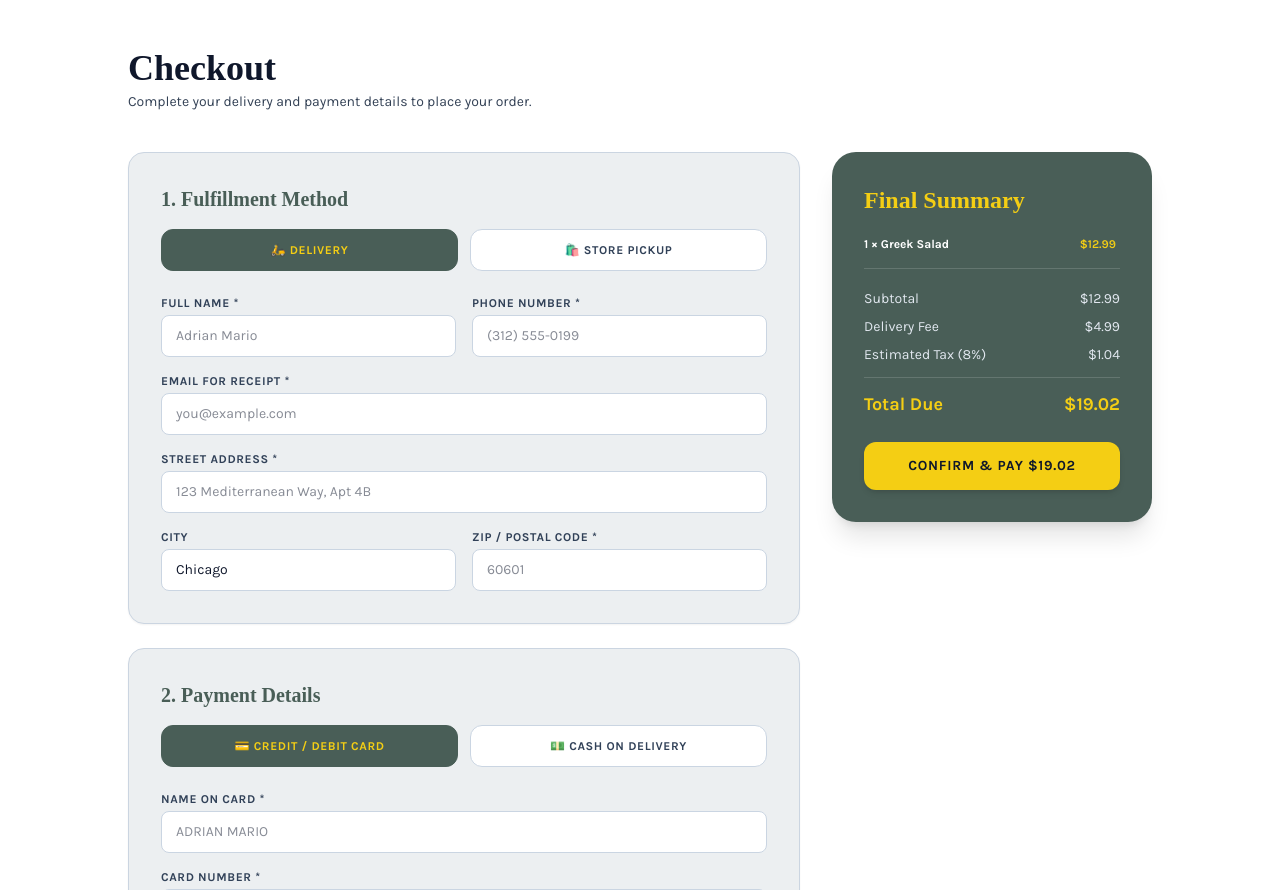
Little Lemon Application & Accessibility Tests › shows validation errors on Checkout page when submitted empty
Click the button "Confirm & Pay $19.02" at (992, 466), box x1=864 y1=442 x2=1120 y2=490
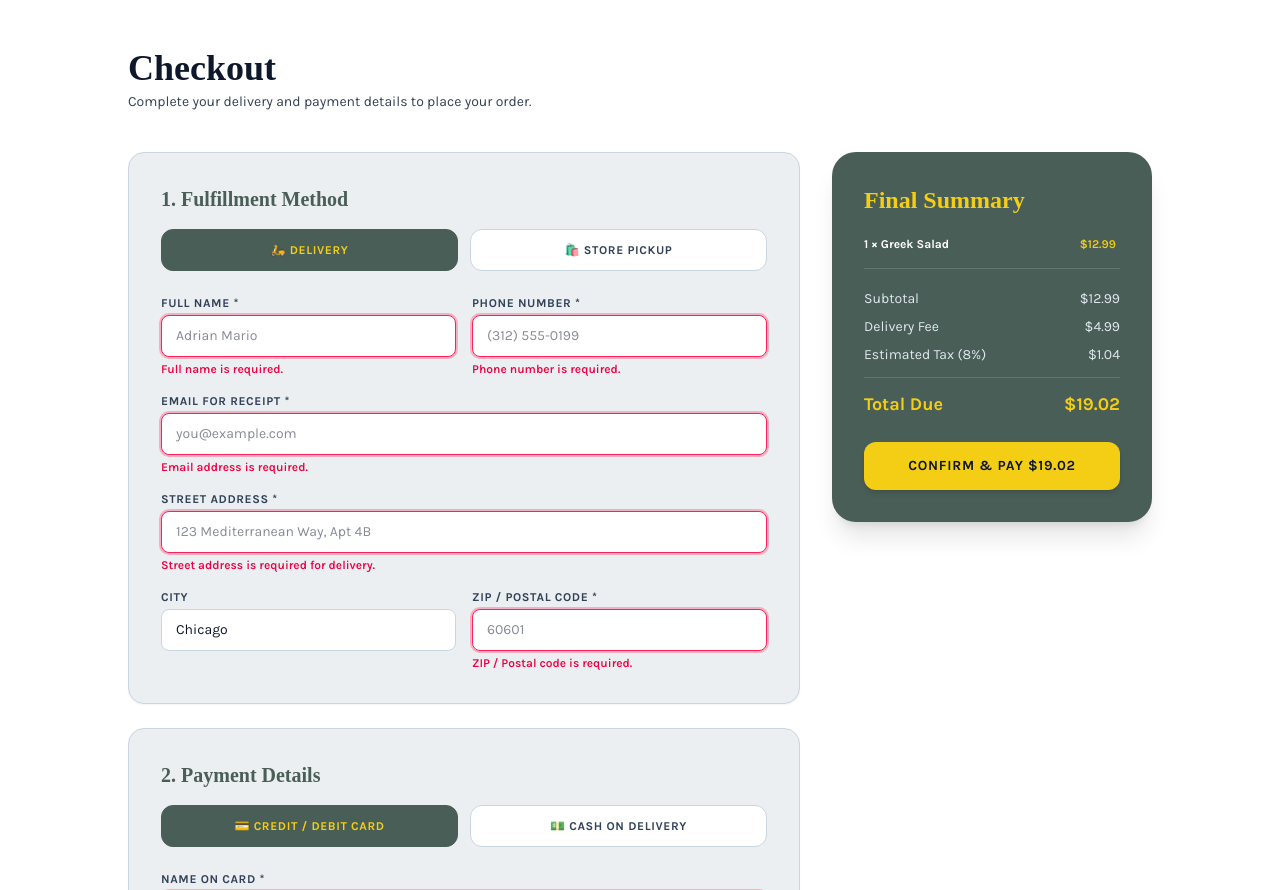
Now the text "Full name is required." is shown, box x1=161 y1=362 x2=283 y2=376
Now the text "Street address is required for delivery." is shown, box x1=161 y1=558 x2=375 y2=572
